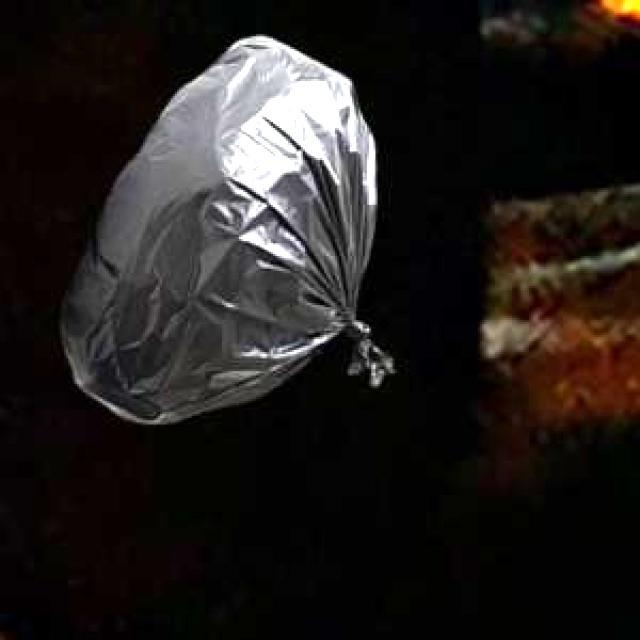Garbage_Bag: (59, 33, 392, 419)
